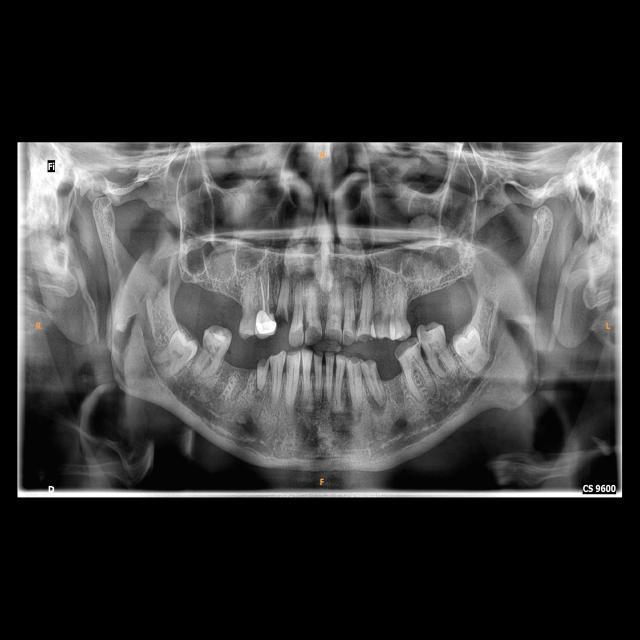dentin-curugu: (369, 306, 397, 340), (395, 333, 420, 365)
kanal-tedavisi: (258, 270, 276, 316)
kaplama: (253, 306, 279, 336)
kirik: (267, 298, 295, 328), (252, 352, 273, 372)
